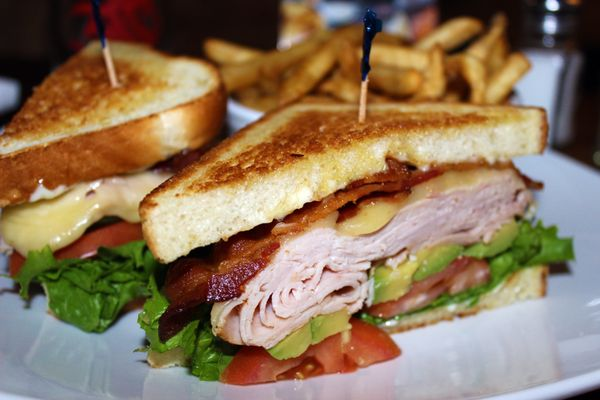soup: (134, 91, 561, 384), (0, 39, 229, 330)
